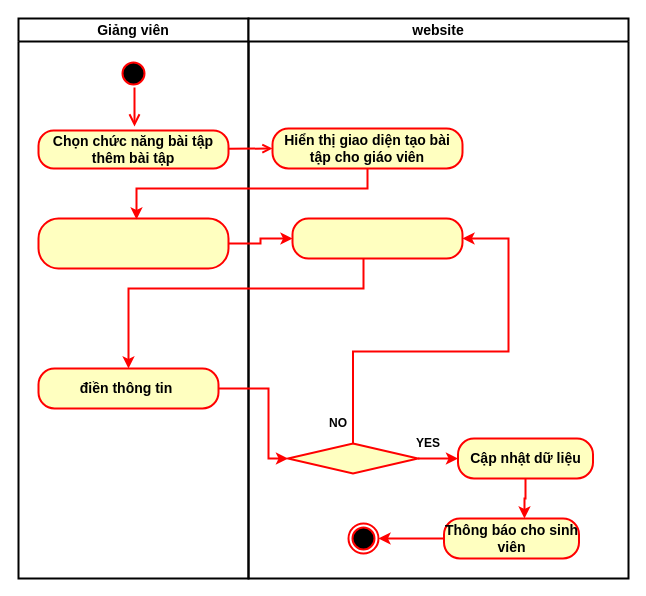
This 646x596 diagram has some shape labels left out. Here are the shapes that lost their labels. From the top down, the centre of each, then its label:
point 133,243: Chọn chức năng thêm bài tập tự luận
point 377,238: Hiển thị giao diện tạo bài tập tự luận
point 352,458: Hợp lệ
